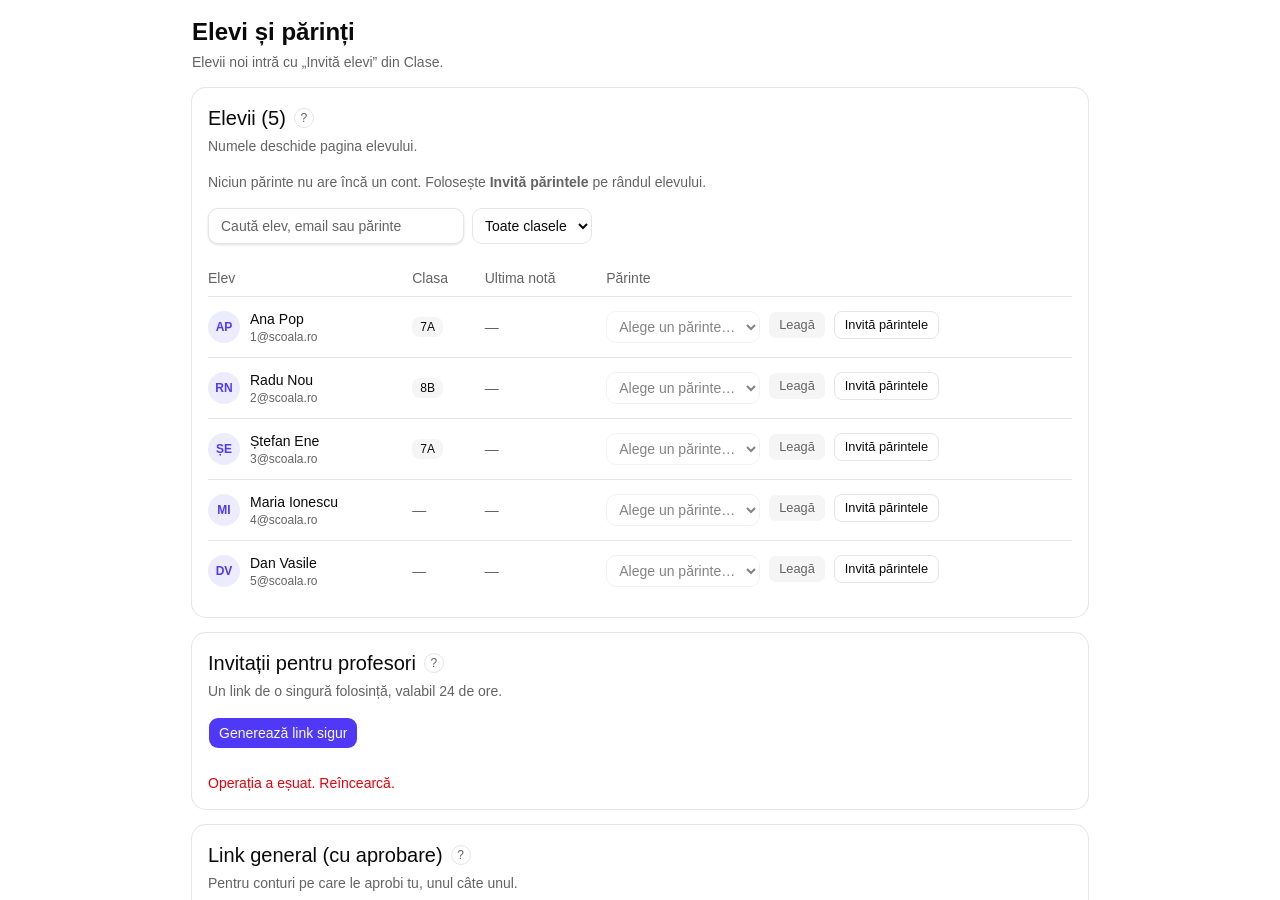
AdminStudentsPage › search and filters › filters by class, and says so when nothing matches, with a way back
Select "7A" in the dropdown named "Clasa" at (532,226), box [472,208,592,244]
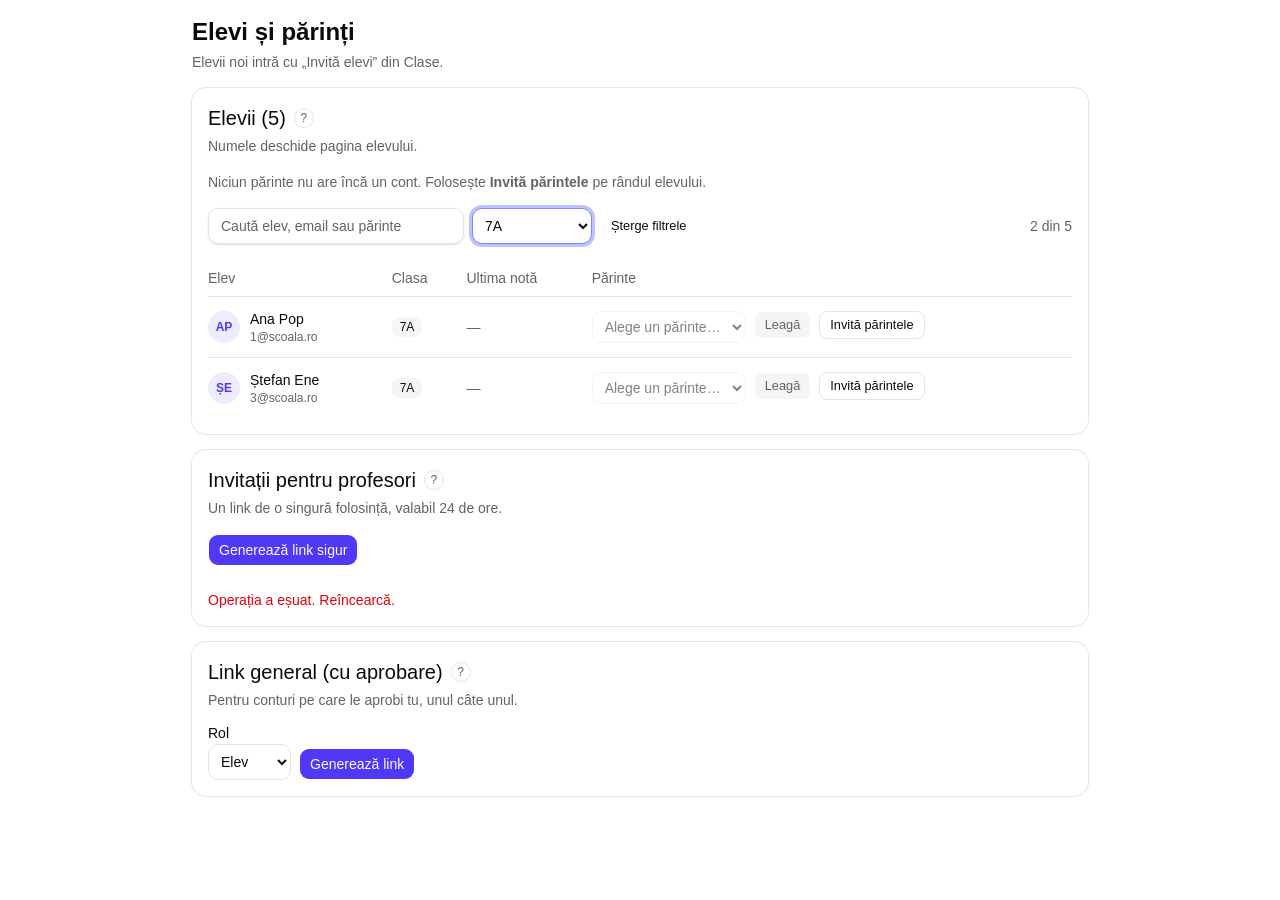
Expected: the link "Ana Pop" is shown, [250,311,304,327]
Now the link "Radu Nou" is gone
Type "zzz" into the search field labelled "Caută elev, email sau părinte".
click(336, 226); type("zzz")  # box [208,208,464,244]
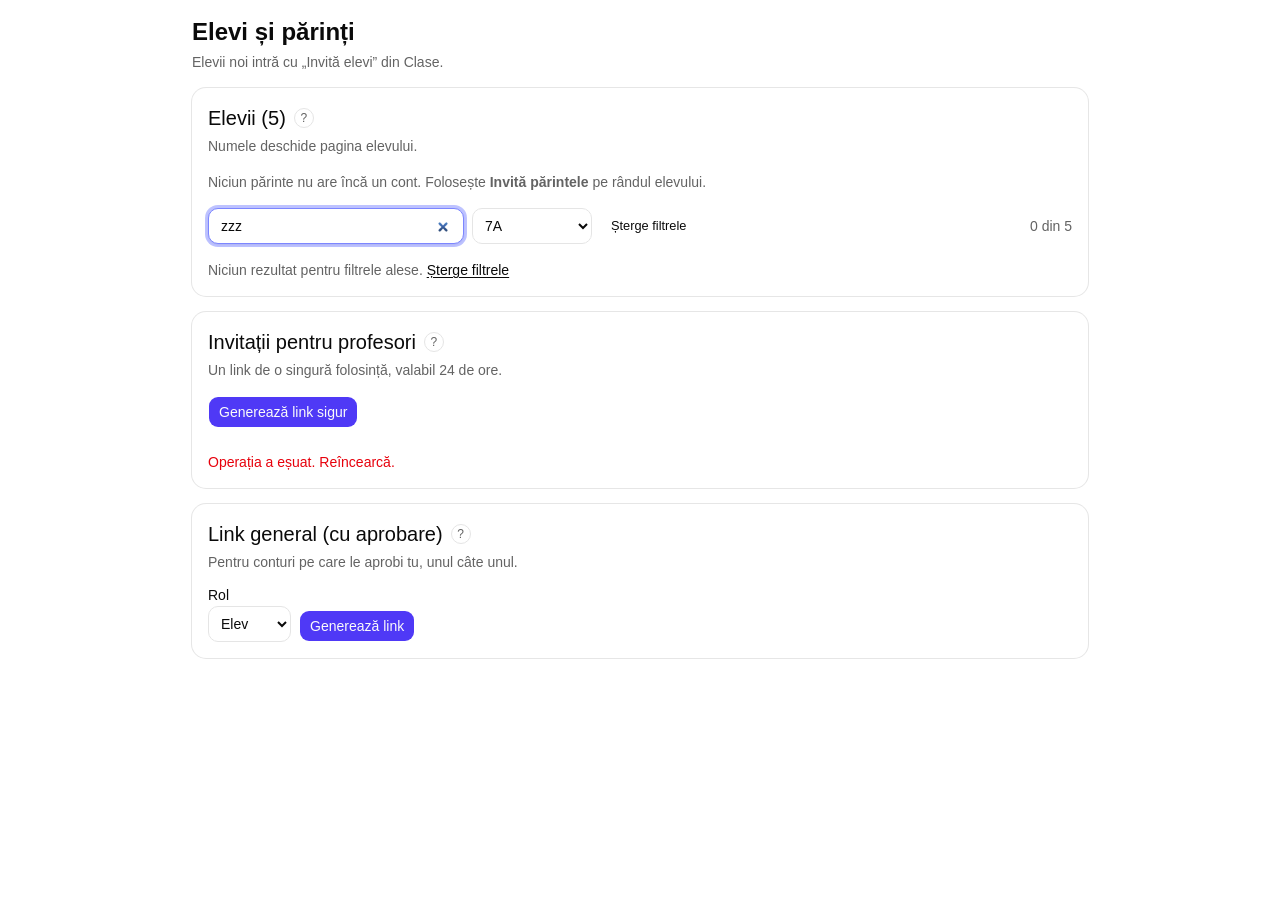
Now the element with test id "no-matches" is shown, box [208,260,509,280]
Click the button "Șterge filtrele" in the row of "0 din 5".
click(649, 226)  # box [600,212,697,240]
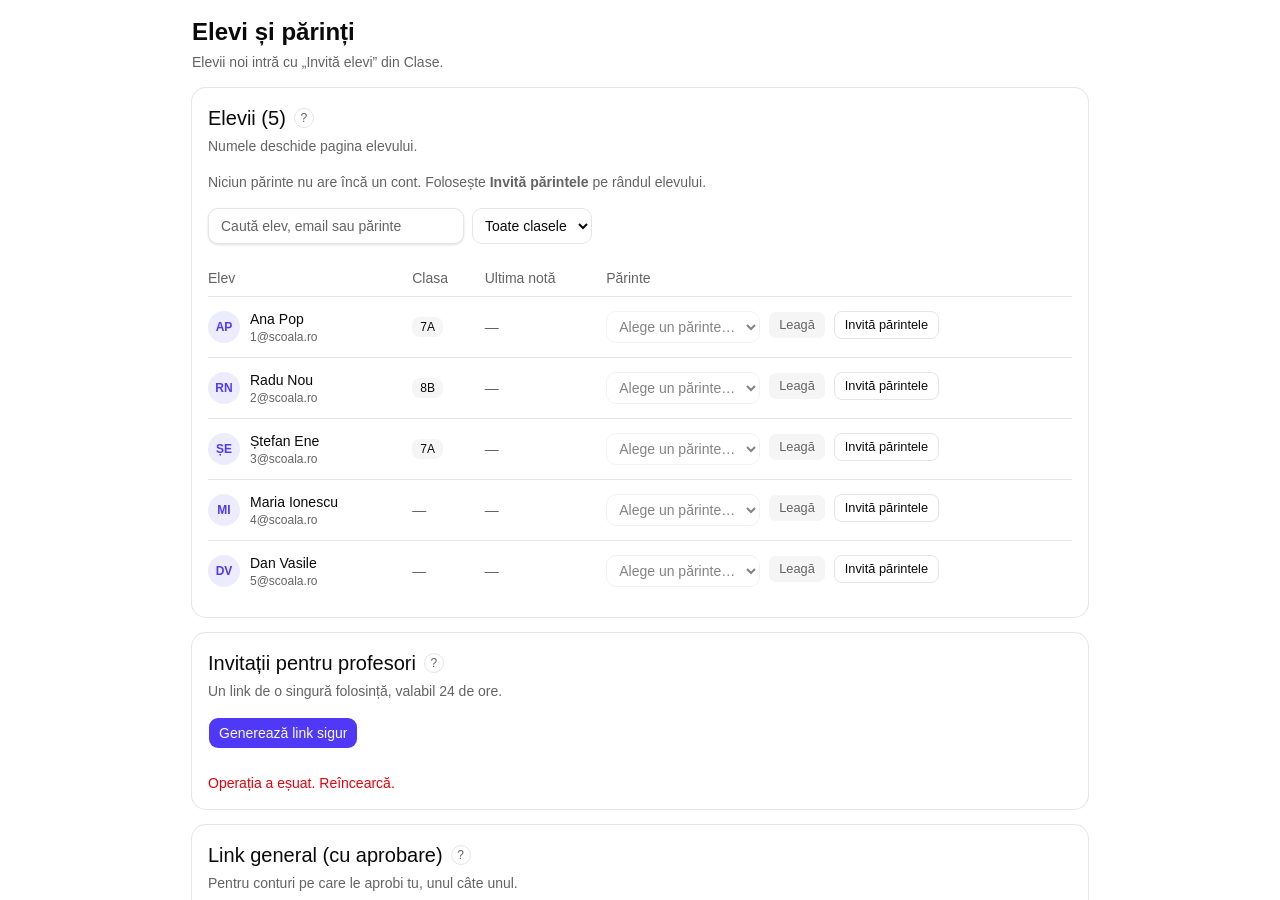
Now the link "Radu Nou" is shown, box [250,370,318,390]
